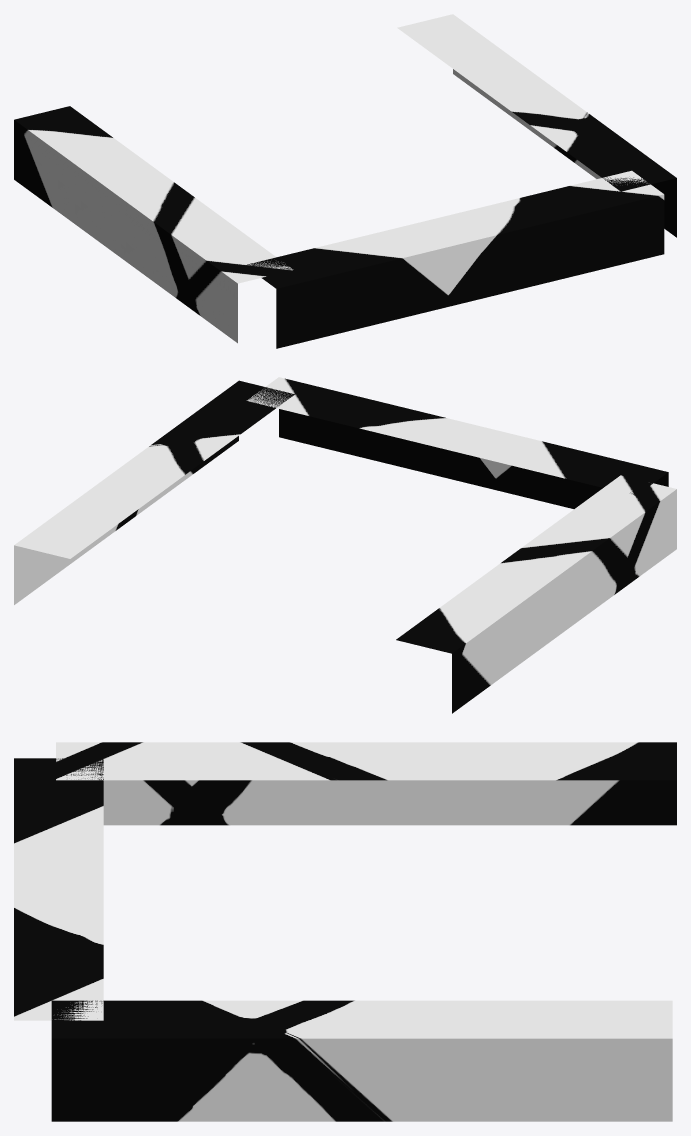
File: Crooked Lines.fbx
3 views of the same model, one above another, from view 1: azimuth 30°, elevation 25°; view 2: azimuth 150°, elevation 25°; view 3: azimuth 270°, elevation 25° (orthographic). The views are drawn at different scales.
Visible parts, largest first — view 1: 4 Sides House.003, 4 Sides House.001, 4 Sides House.002; view 2: 4 Sides House.001, 4 Sides House.003, 4 Sides House.002; view 3: 4 Sides House.002, 4 Sides House.001, 4 Sides House.003.
Boxes of the visible parts, box(x1,y1,x2,y2) form: 4 Sides House.003: box(245, 170, 664, 348); 4 Sides House.001: box(14, 106, 293, 343); 4 Sides House.002: box(397, 14, 676, 237); 4 Sides House.001: box(396, 475, 676, 713); 4 Sides House.003: box(246, 377, 668, 508); 4 Sides House.002: box(14, 380, 294, 604); 4 Sides House.002: box(51, 1000, 672, 1121); 4 Sides House.001: box(56, 742, 676, 825); 4 Sides House.003: box(14, 758, 103, 1020).
Bounding box in the file's own units: 149 × 19.45 × 141.
